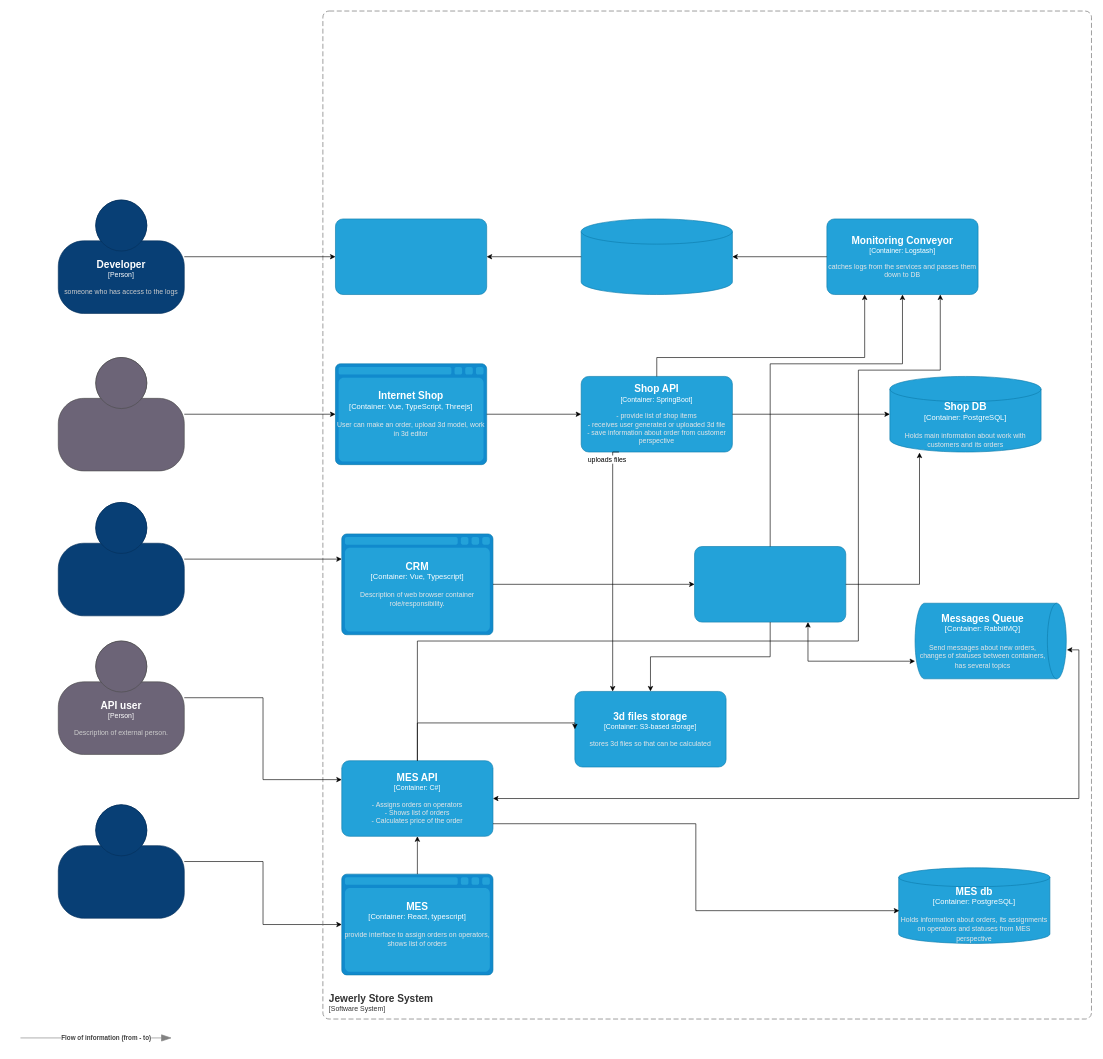
This 1103x1059 diagram has some shape labels left out. Here are the shapes that lost their labels. From the top down, the box of each, then its label:
(335, 218, 487, 295): Monitoring UI [Container: Kibana] provides an user interface for viewing logs
(581, 218, 732, 295): Monitoring DB [Container: ElasticSearch] holds logs
(58, 357, 184, 471): Customer [Person] Description of external person.
(58, 502, 184, 616): Seller [Person] Operates with order, confirms manufacturing for the user
(694, 546, 846, 622): CRM API [Container: SpringBoot] Description of container role/responsibility.
(58, 804, 184, 918): Operator [Person] Takes order in work, manufactures jewerly
